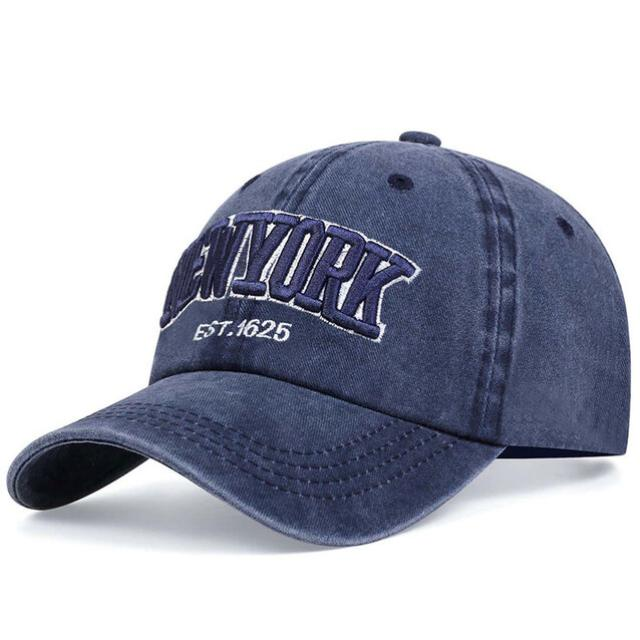Nonhelmet: (6, 126, 631, 548)
